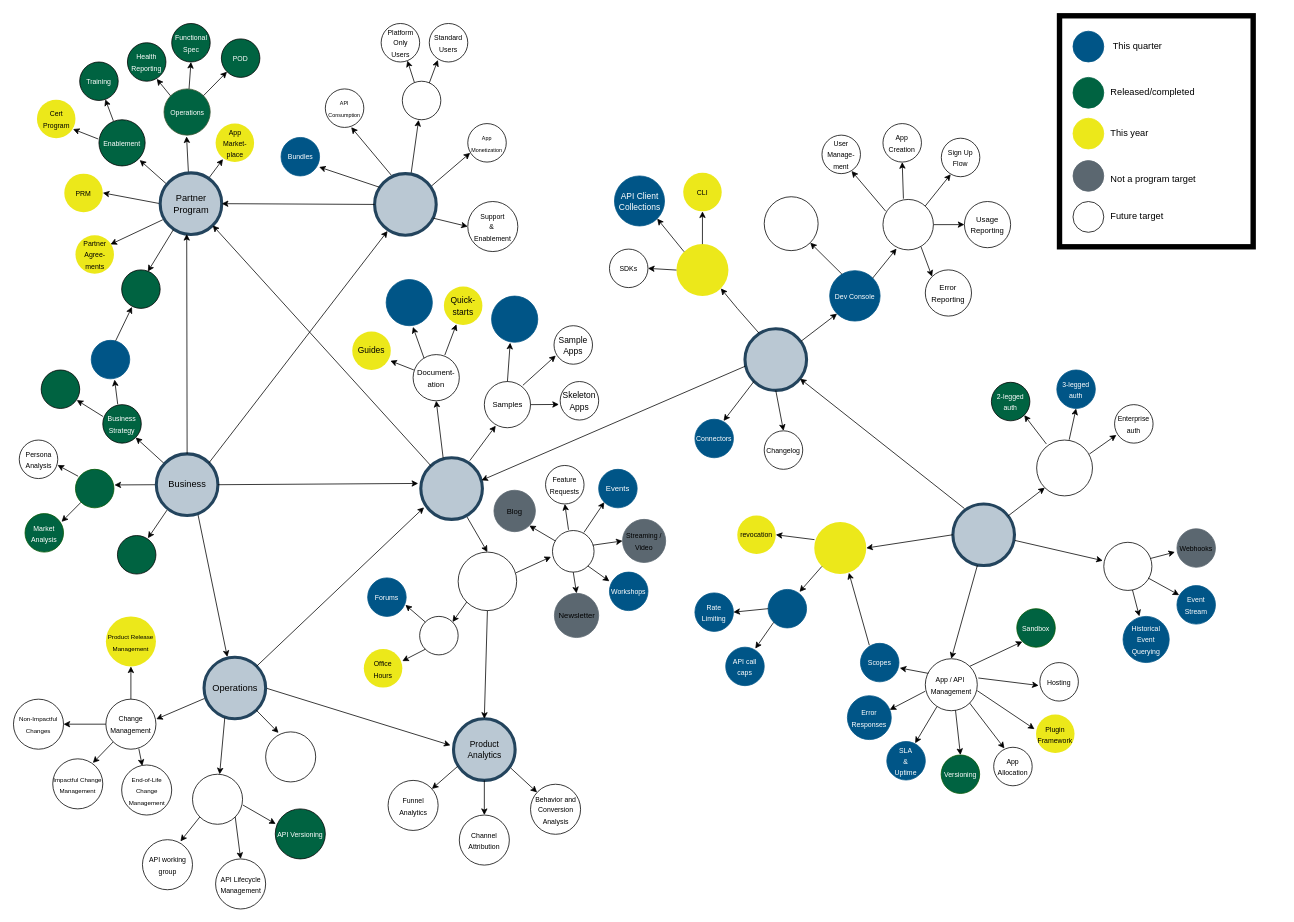
This 1294x922 diagram has some shape labels left out. The centre of each missing label's shape, as x and y in pixels:
API Governance: point 217,798
API Key Management: point 790,223
API Reference: point 408,302
App Management Dashboard: point 907,224
Architecture: point 983,534
Authentication / Authorization: point 1064,467
Code Samples: point 514,318
Dev Tools: point 775,359
Developer Experience: point 451,488
Development Kits: point 702,270
Engagement: point 487,581
Eventing: point 1127,566
Limits & Rates: point 787,608
Outreach: point 573,551
Platform Strategy: point 110,359
Playbooks: point 60,388
Pricing: point 405,204
Product Roadmap: point 290,756
Segment Analysis: point 94,488
Support: point 438,635
Target Use Cases: point 140,288
Token Management: point 840,548
User Monitization: point 421,100
Win/Loss QBR: point 136,554
